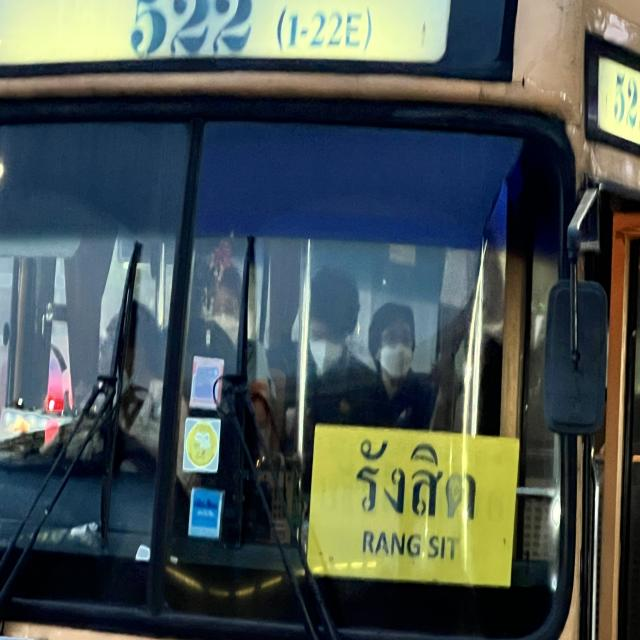BMTA-bus: (0, 0, 640, 640)
Bus-Line-Number: (96, 0, 390, 57)
Destination-Sign-Normal-Expressway: (307, 420, 519, 594)
